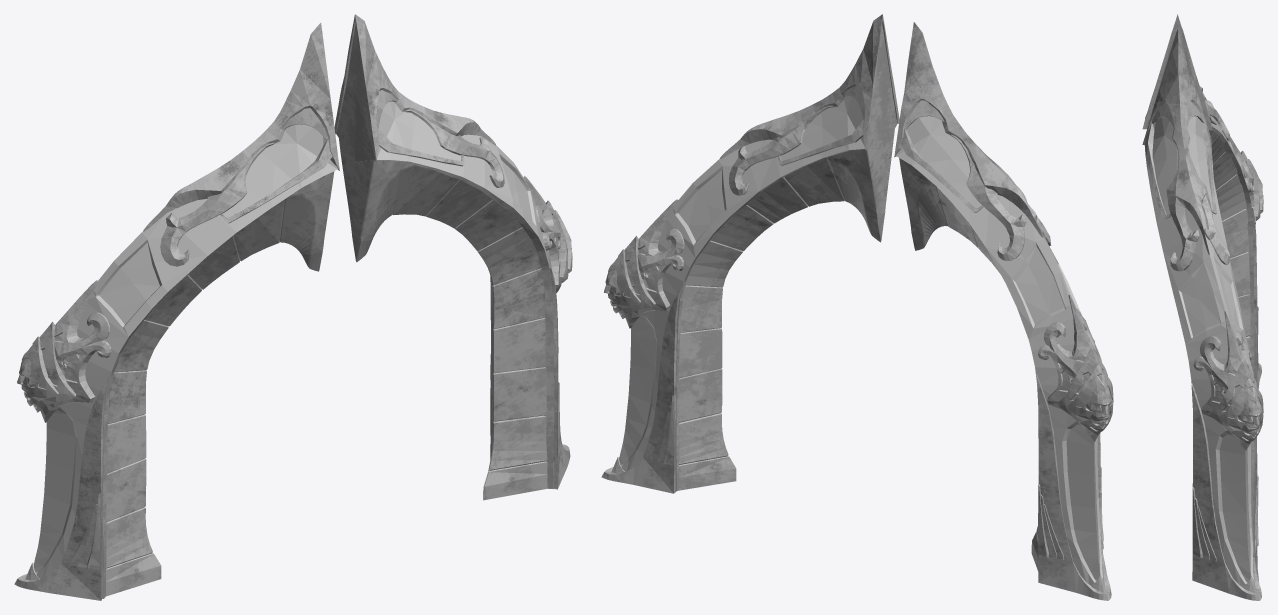
The model's file is Archstone_01_Lod0.fbx.
3 views of the same model, side by side, from view 1: azimuth 30°, elevation 25°; view 2: azimuth 150°, elevation 25°; view 3: azimuth 270°, elevation 25° (orthographic). The views are drawn at different scales.
Visible parts, largest first — view 1: S_Sunforged_Archstone_01.mo; view 2: S_Sunforged_Archstone_01.mo; view 3: S_Sunforged_Archstone_01.mo.
Part boxes in pixels (x1,y1,x2,y2): S_Sunforged_Archstone_01.mo: [14, 14, 572, 600]; S_Sunforged_Archstone_01.mo: [601, 14, 1113, 600]; S_Sunforged_Archstone_01.mo: [1142, 14, 1263, 600].
Bounding box in the file's own units: 2259 × 2084 × 494.
